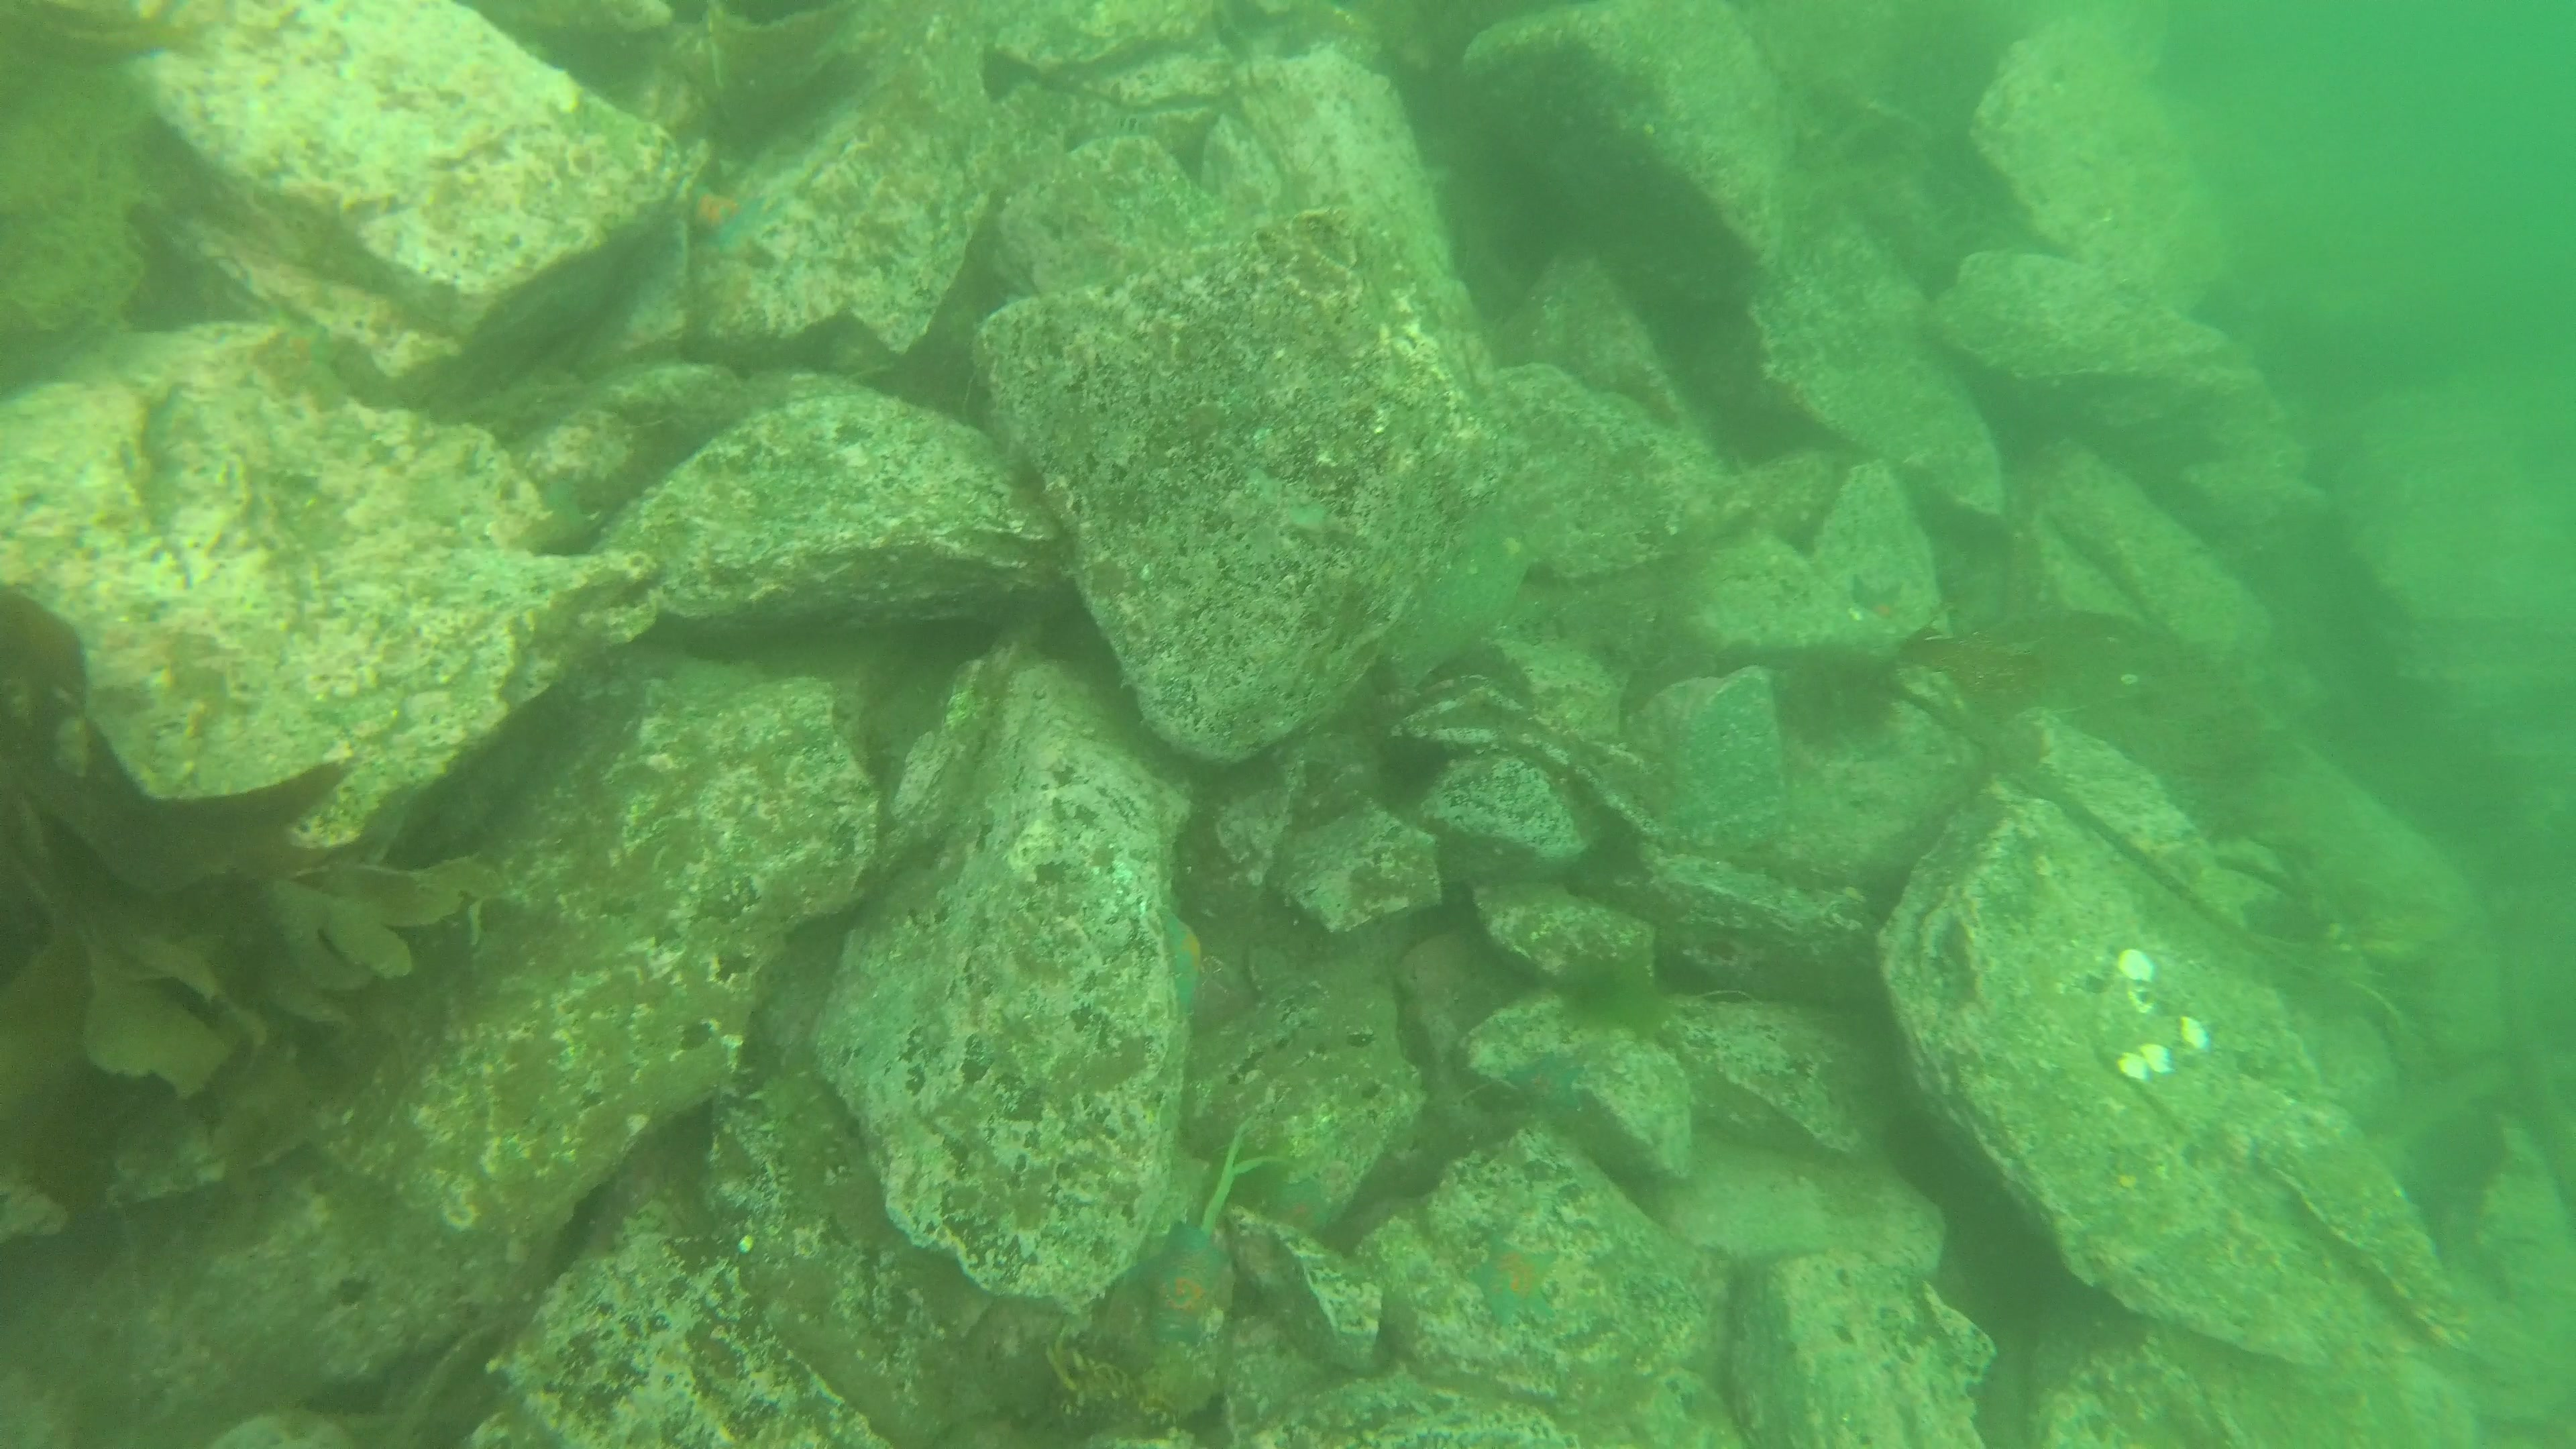holothurian: (732, 1039, 865, 1221)
starfish: (1132, 1219, 1235, 1346), (1463, 1240, 1560, 1323), (669, 186, 766, 253), (1155, 906, 1203, 1017), (1506, 1054, 1585, 1113), (1845, 579, 1907, 630)
